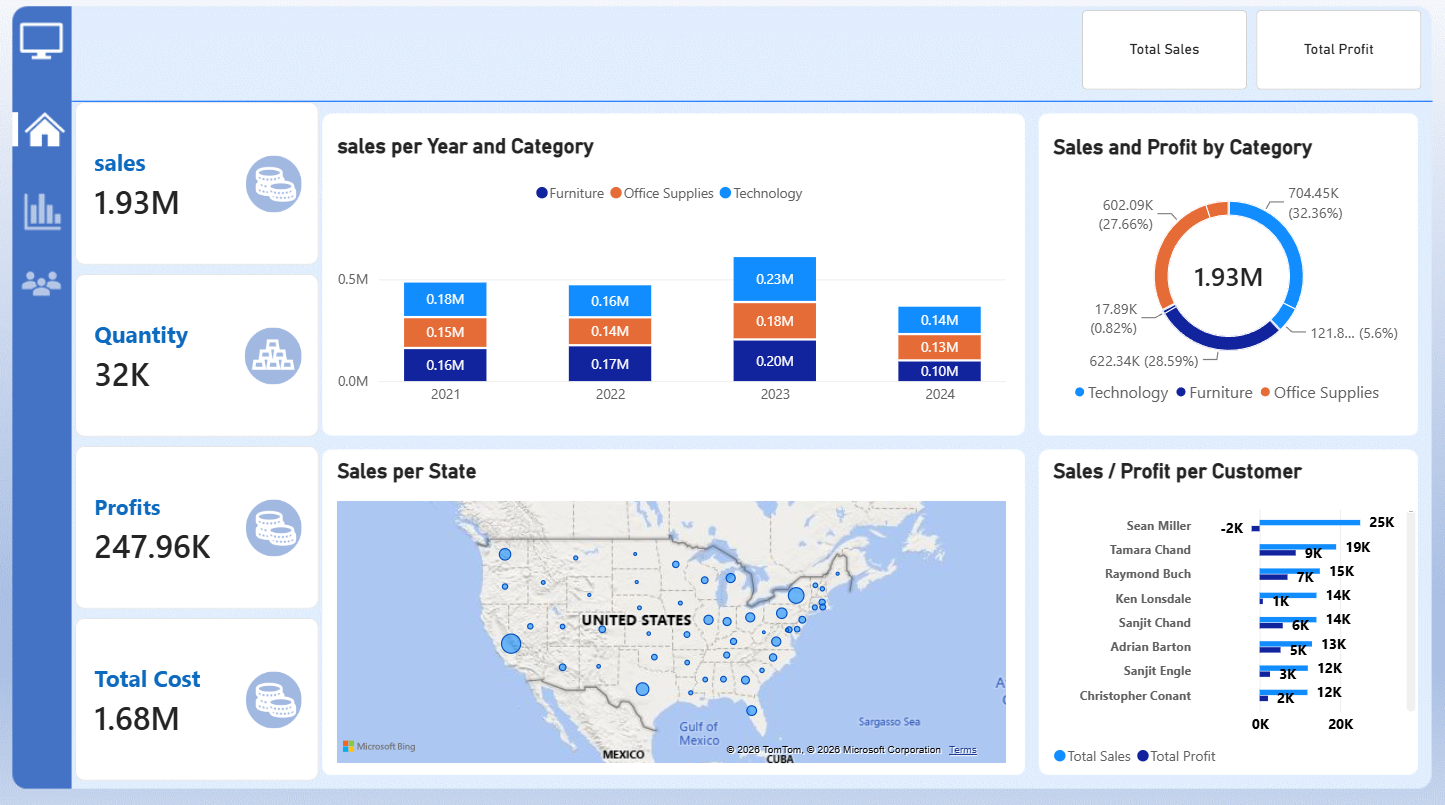

The page's visual inventory and layout, read from the dashboard file:
{"tool":"powerbi","page":{"name":"Overview","canvas":[1280,720],"ordinal":0},"visuals":[{"type":"cardVisual","fields":{"Data":["Measuress.Total Sales","Measuress.Total Qty","Measuress.Total Profit","Measuress.Total Cost"]},"box":[71.6,100.2,214.7,596.5],"z":0},{"type":"columnChart","title":"sales per Year and Category","fields":{"Category":["Fact.Order Date.Variation.Date Hierarchy.Year"],"Series":["Dim Product.Category"],"Y":["Measuress.Total Sales"]},"box":[286.3,114.5,618.7,272],"z":1},{"type":"map","title":"Sales per State","fields":{"Category":["DIm State.State"],"Size":["Measuress.Total Sales"]},"box":[286.3,399.2,618.7,297.4],"z":2},{"type":"donutChart","title":"Sales and Profit by Category","fields":{"Category":["Dim Product.Category"],"Y":["Measuress.Total Sales","Measuress.Total Profit"]},"box":[915.3,115.3,340.3,270.3],"z":3},{"type":"clusteredBarChart","title":"Sales / Profit per Customer","fields":{"Category":["DIm Customer.Customer Name"],"Y":["Measuress.Total Sales","Measuress.Total Profit"]},"box":[924.6,406.5,340.3,296.4],"z":4},{"type":"actionButton","box":[15.1,174.3,56.3,56.3],"z":6},{"type":"actionButton","box":[16.5,174.1,56.3,39.8],"z":7},{"type":"advancedSlicerVisual","fields":{"Values":["Parameter.Parameter"]},"box":[956.1,19.5,299.6,70],"z":8}]}

Visuals, with their boxes on the page's 1280x720 design canvas (x1, y1, x2, y2). These are canvas units, not pixel positions in the 1445x805 screenshot, which may show the page scaled, cropped or inside an application window:
cardVisual - Measuress.Total Sales x Measuress.Total Qty: {"x1": 72, "y1": 100, "x2": 286, "y2": 697}
"sales per Year and Category" columnChart: {"x1": 286, "y1": 114, "x2": 905, "y2": 386}
"Sales per State" map: {"x1": 286, "y1": 399, "x2": 905, "y2": 697}
"Sales and Profit by Category" donutChart: {"x1": 915, "y1": 115, "x2": 1256, "y2": 386}
"Sales / Profit per Customer" clusteredBarChart: {"x1": 925, "y1": 406, "x2": 1265, "y2": 703}
actionButton: {"x1": 15, "y1": 174, "x2": 71, "y2": 231}
actionButton: {"x1": 16, "y1": 174, "x2": 73, "y2": 214}
advancedSlicerVisual - Parameter.Parameter: {"x1": 956, "y1": 20, "x2": 1256, "y2": 90}
